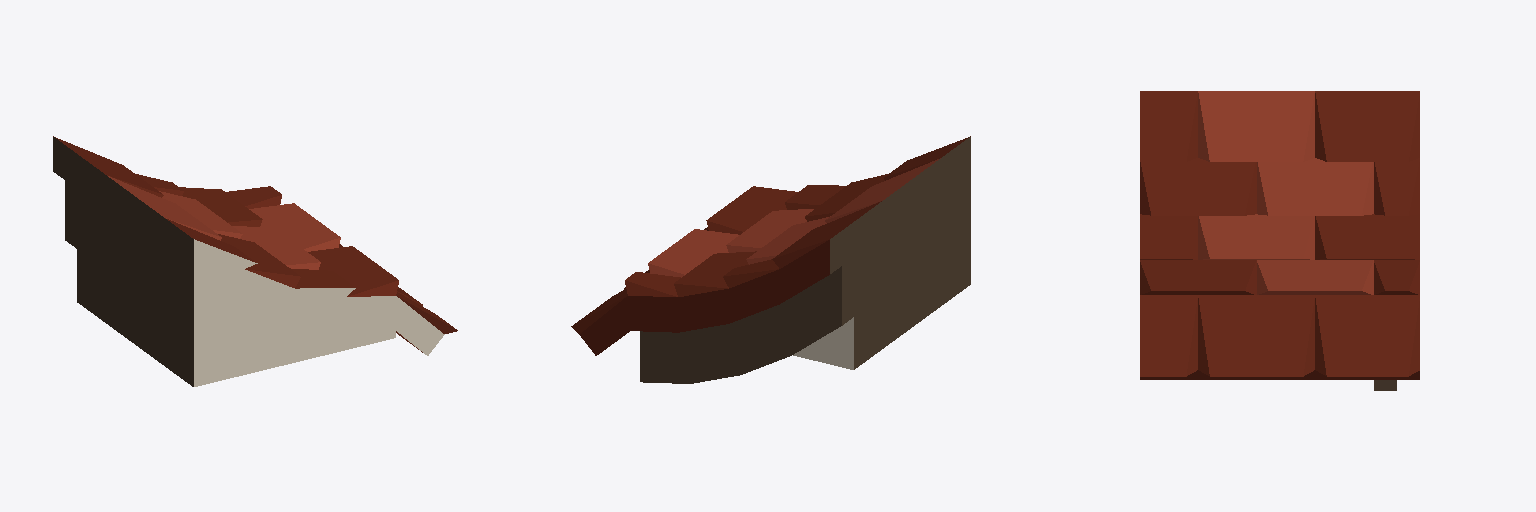
File: Roof_Concave_Side_Eave_Edge.obj
The picture shows the model from 3 angles: view 1: azimuth 30°, elevation 25°; view 2: azimuth 150°, elevation 25°; view 3: azimuth 270°, elevation 25°; orthographic projection.
Visible parts, largest first — view 1: object1; view 2: object1; view 3: object1.
Boxes of the visible parts, x1,y1,x2,y2 form: object1: [53, 136, 457, 386]; object1: [571, 136, 970, 383]; object1: [1140, 91, 1419, 390].
Bounding box in the file's own units: 1.31 × 0.9495 × 1.2.